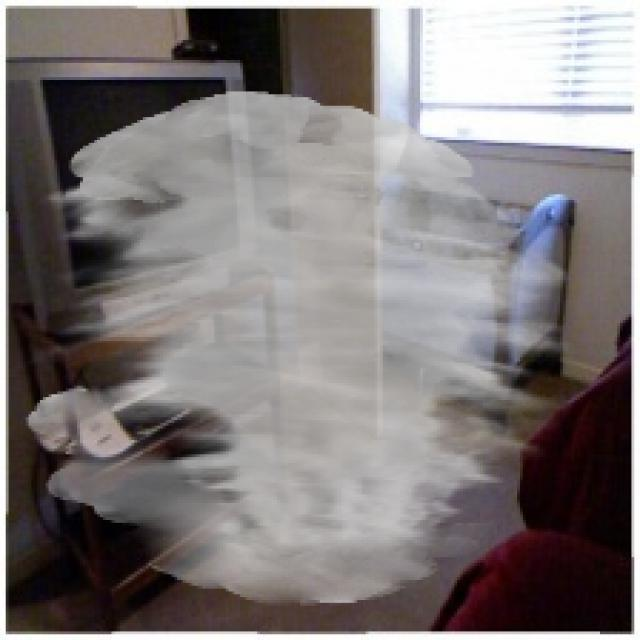Smoke: (26, 91, 574, 606)
